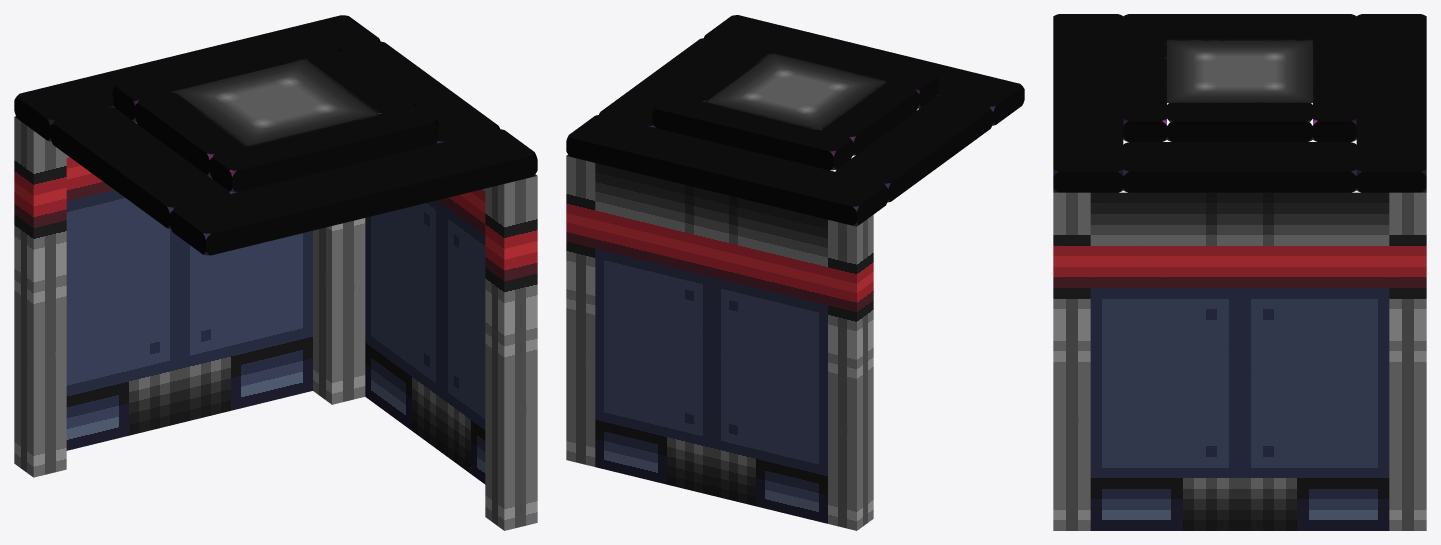
3 renders of one model, left to right at view 1: azimuth 30°, elevation 25°; view 2: azimuth 150°, elevation 25°; view 3: azimuth 270°, elevation 25°, orthographic. The views are drawn at different scales.
Parts seen in each view (by area): view 1: Roof, N, E, NW, NE, SE; view 2: N, Roof, NE, SE; view 3: E, Roof, NW, SE.
Boxes of the visible parts, x1,y1,x2,y2 form: Roof: [14, 15, 537, 255]; N: [66, 122, 312, 450]; E: [365, 188, 485, 484]; NW: [485, 174, 537, 530]; NE: [14, 116, 66, 477]; SE: [313, 218, 365, 404]; N: [595, 163, 827, 523]; Roof: [566, 15, 1024, 225]; NE: [828, 210, 873, 530]; SE: [566, 154, 595, 466]; E: [1090, 192, 1389, 530]; Roof: [1053, 14, 1426, 192]; NW: [1053, 189, 1090, 530]; SE: [1389, 189, 1426, 530].
Size of the model in its own units: 2 by 2.25 by 2.
Materials: 3 (3 with a texture image).
